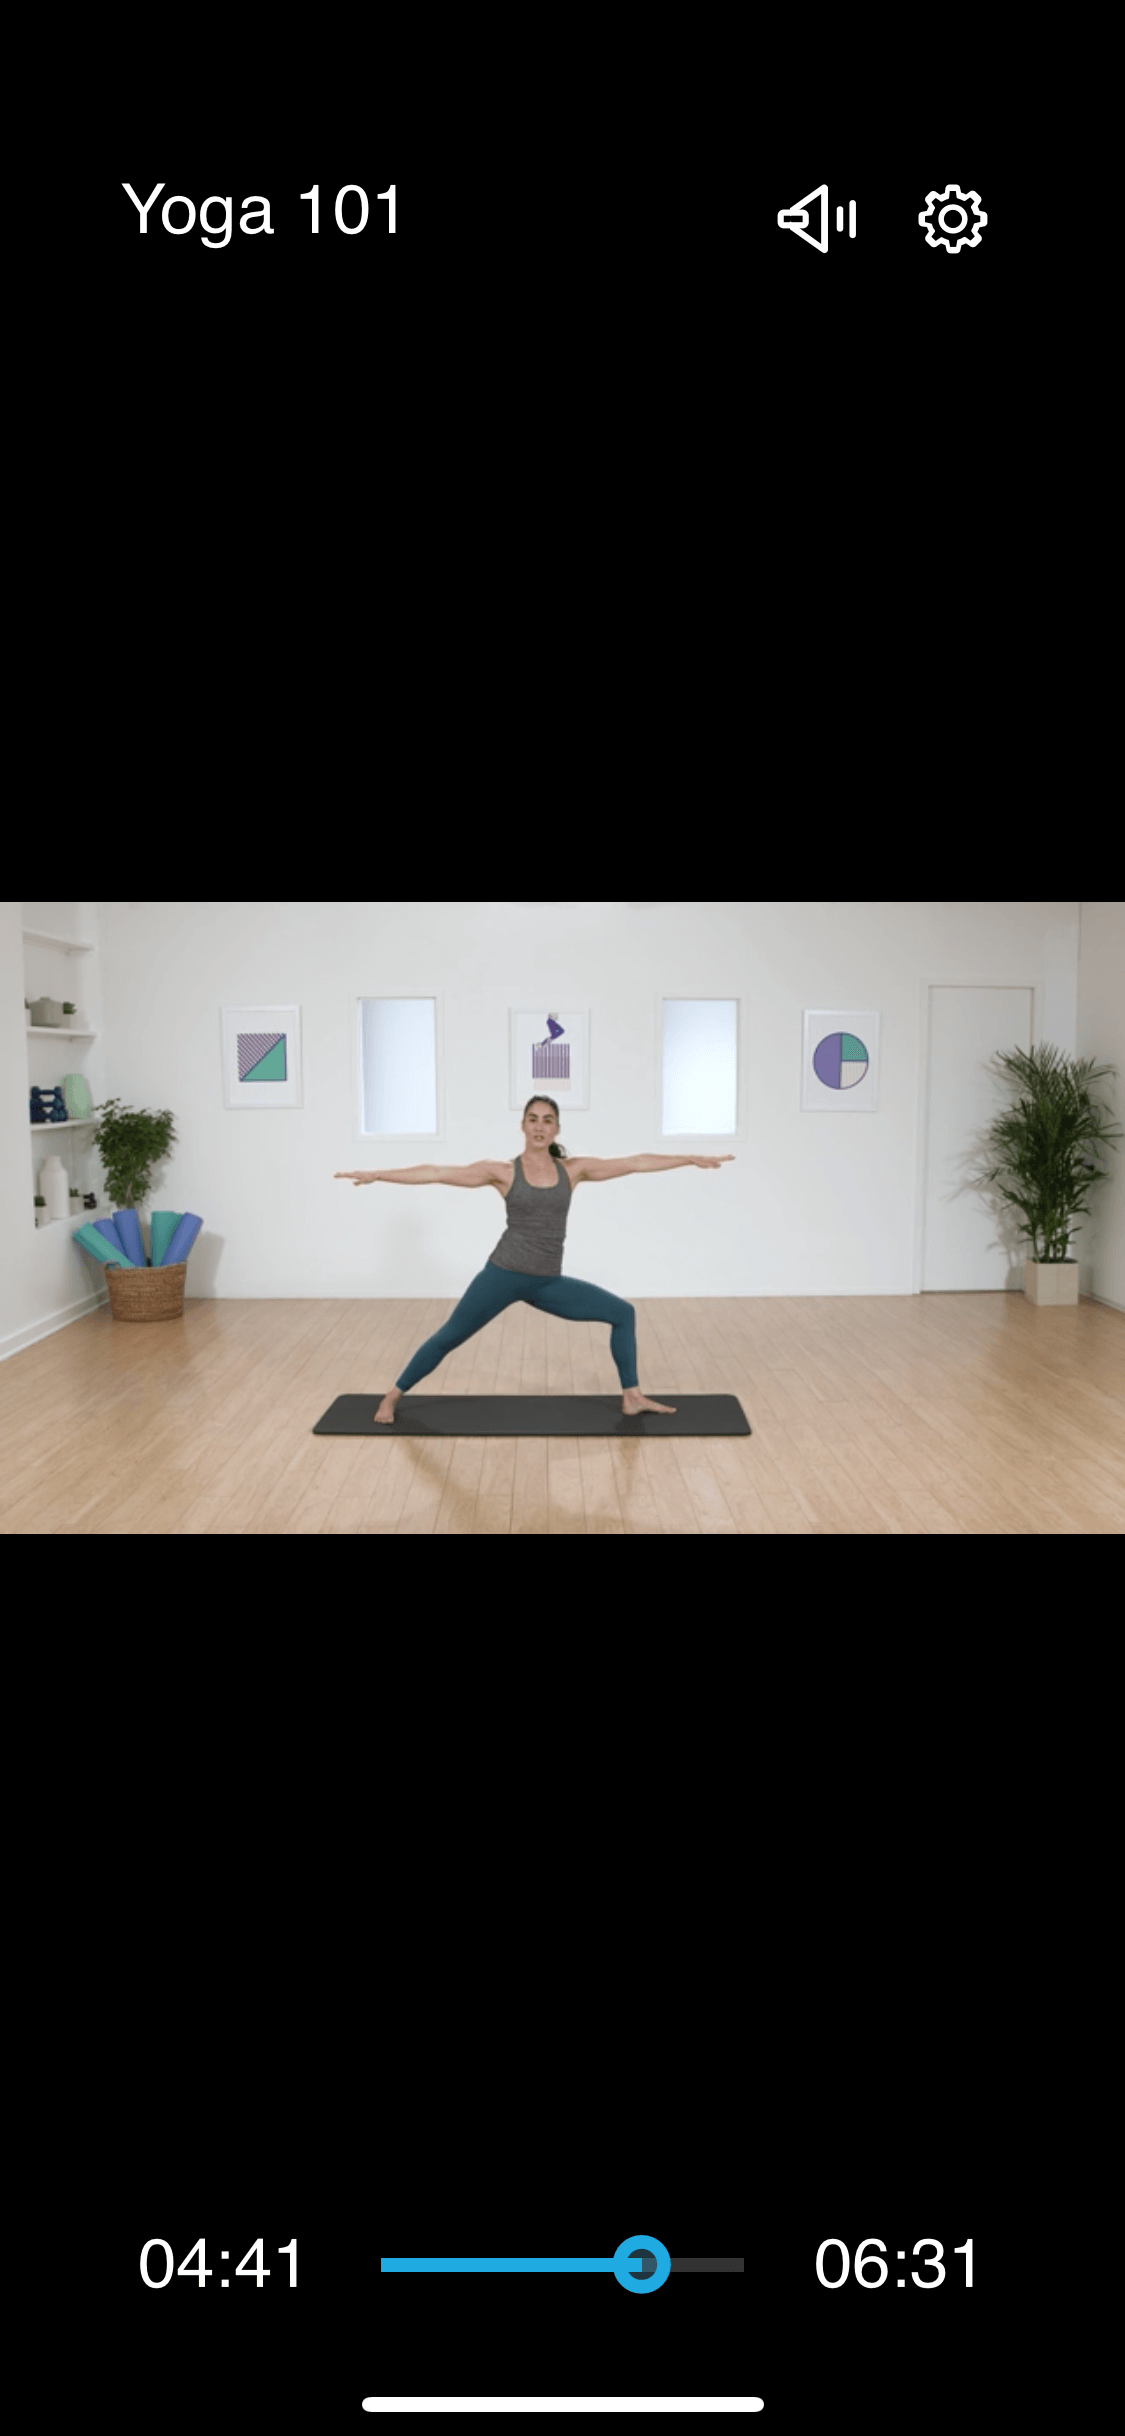Buttons: (747, 154, 878, 273), (893, 154, 1002, 278)
Sliders: (78, 2187, 1060, 2343)
